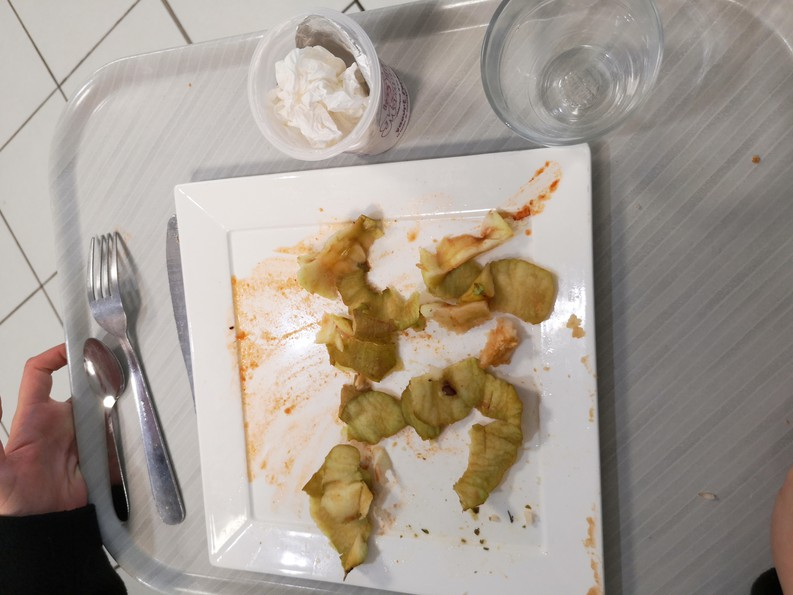cup: (485, 1, 659, 148)
cutlery: (61, 225, 196, 552)
orga: (286, 223, 546, 554)
trash: (237, 19, 412, 160)
